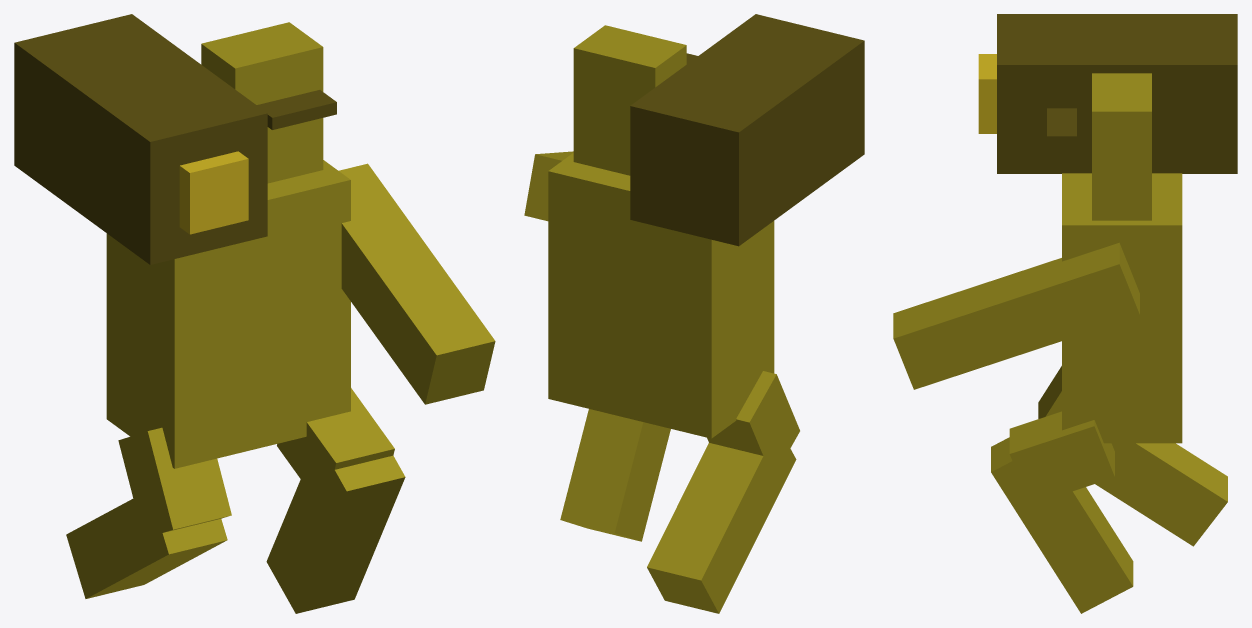
Rendered from ElectricAutomaton.fbx.
3 views of the same model, side by side, from view 1: azimuth 30°, elevation 25°; view 2: azimuth 150°, elevation 25°; view 3: azimuth 270°, elevation 25° (orthographic). The views are drawn at different scales.
Visible parts, largest first — view 1: Cube.001, Cube.005, Cube.009, Cube.010; view 2: Cube.001, Cube.005; view 3: Cube.001, Cube.005, Cube.009, Cube.010.
Boxes of the visible parts, box(x1,y1,x2,y2) form: Cube.001: box(66, 22, 495, 613); Cube.005: box(14, 14, 267, 264); Cube.009: box(179, 151, 248, 234); Cube.010: box(257, 90, 336, 129); Cube.001: box(524, 25, 799, 613); Cube.005: box(630, 14, 864, 246); Cube.001: box(893, 73, 1227, 613); Cube.005: box(997, 14, 1237, 173); Cube.009: box(978, 54, 996, 133); Cube.010: box(1047, 108, 1076, 147).
Bounding box in the file's own units: 97.61 × 180 × 114.
